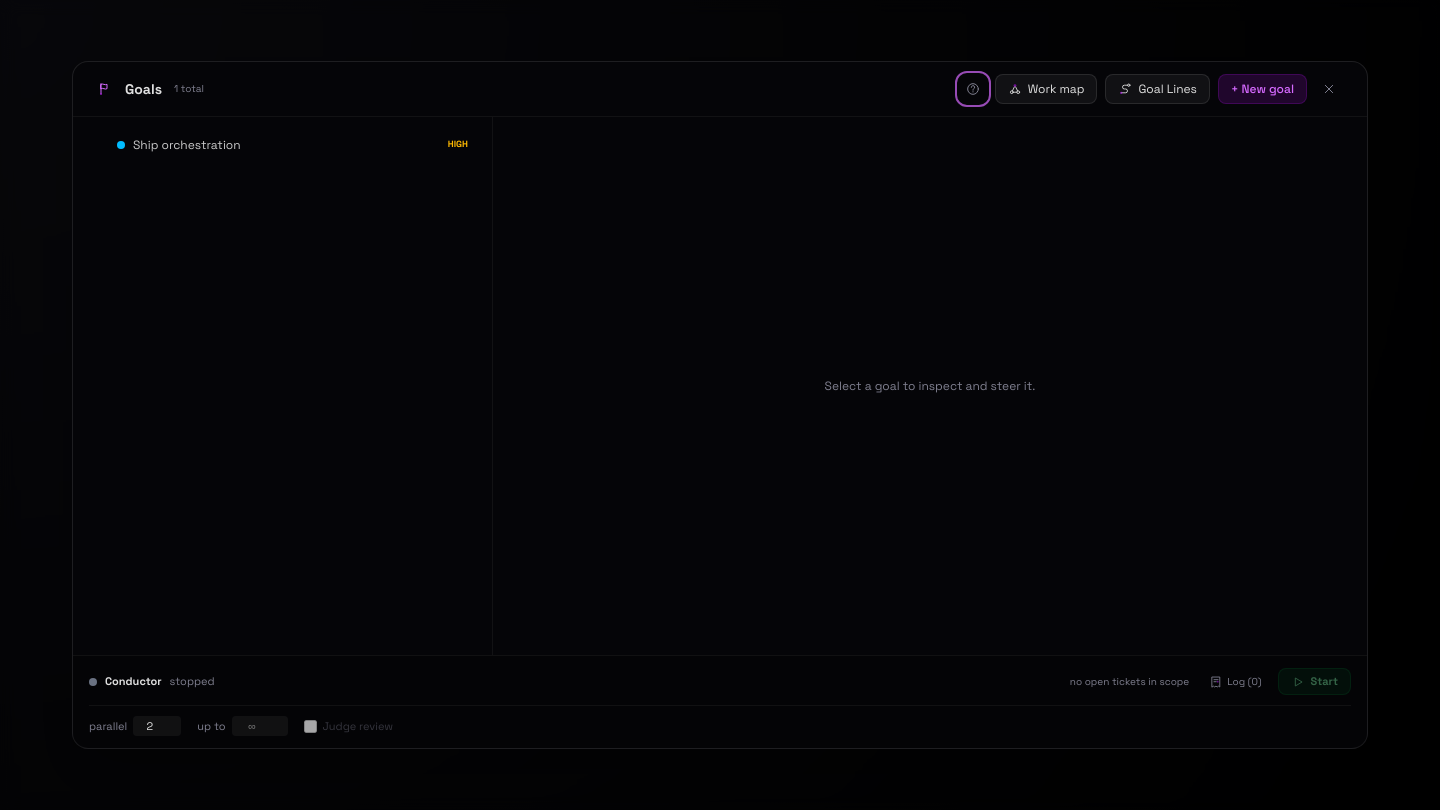
it: GoalsModal › replays the workflow strip via the help button
Click the button with test id "goals-help-btn" at (973, 89), box 959,75 -> 987,103
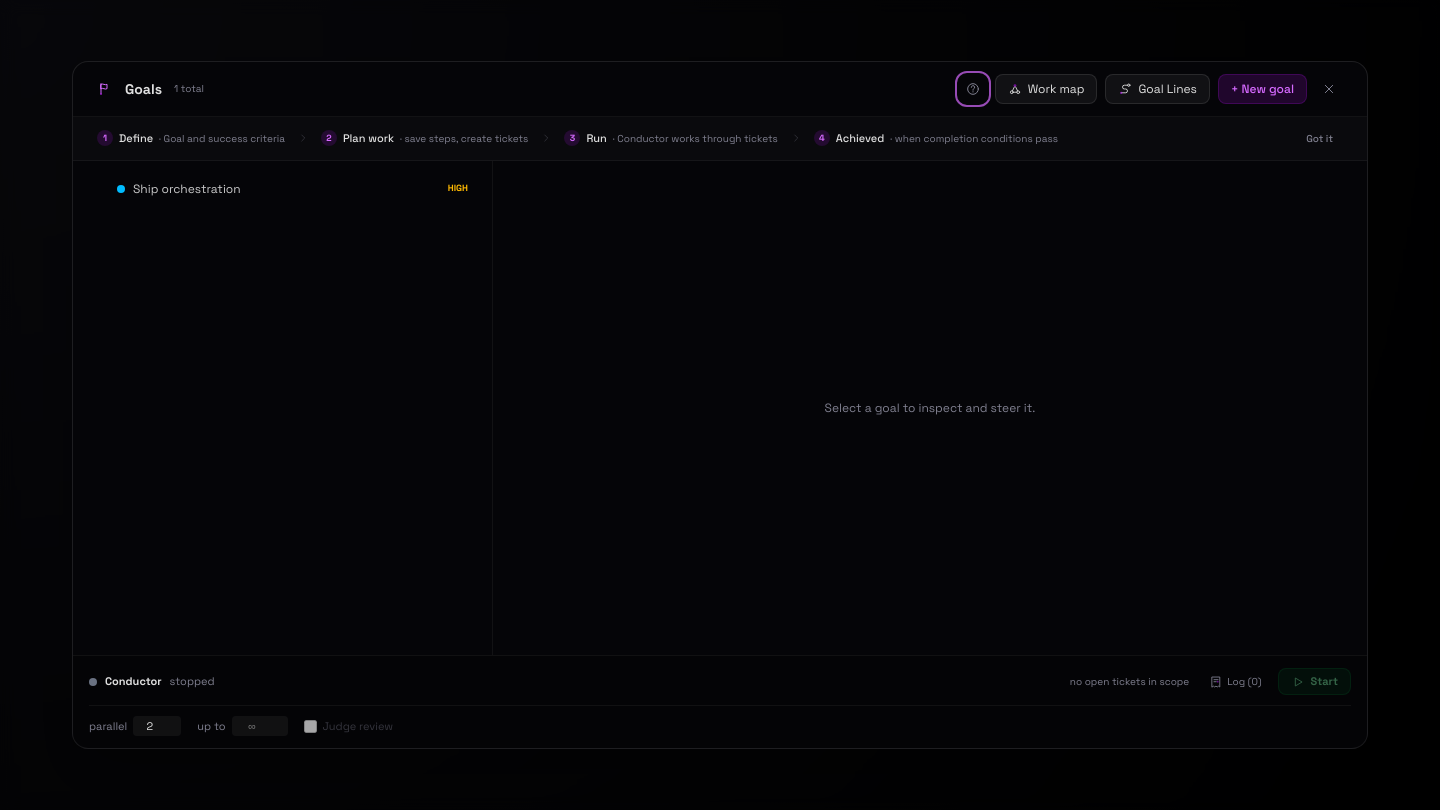
expect the element with test id "goals-workflow-strip" is shown: met, box 73,117 -> 1367,161
